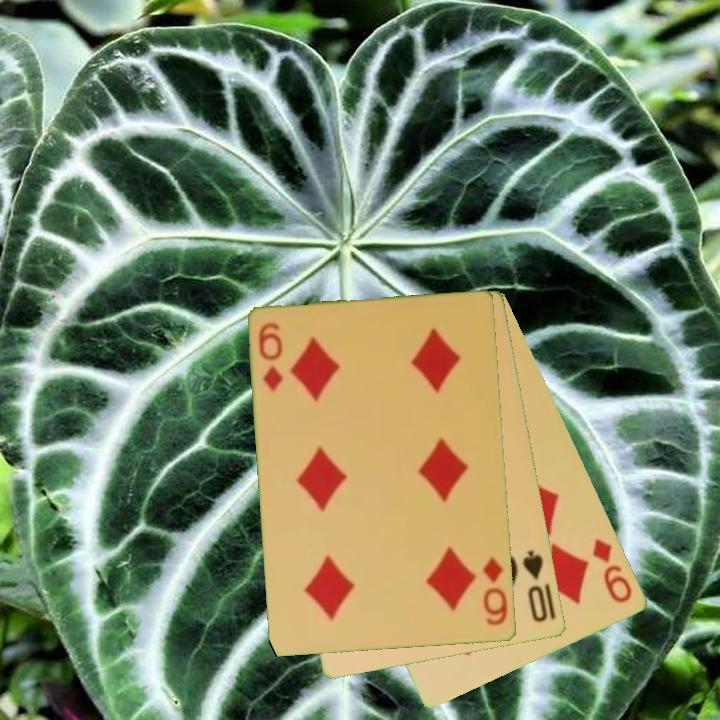10s: (519, 547, 551, 626)
6d: (480, 553, 511, 629), (255, 319, 286, 395)
9d: (589, 535, 636, 606)
